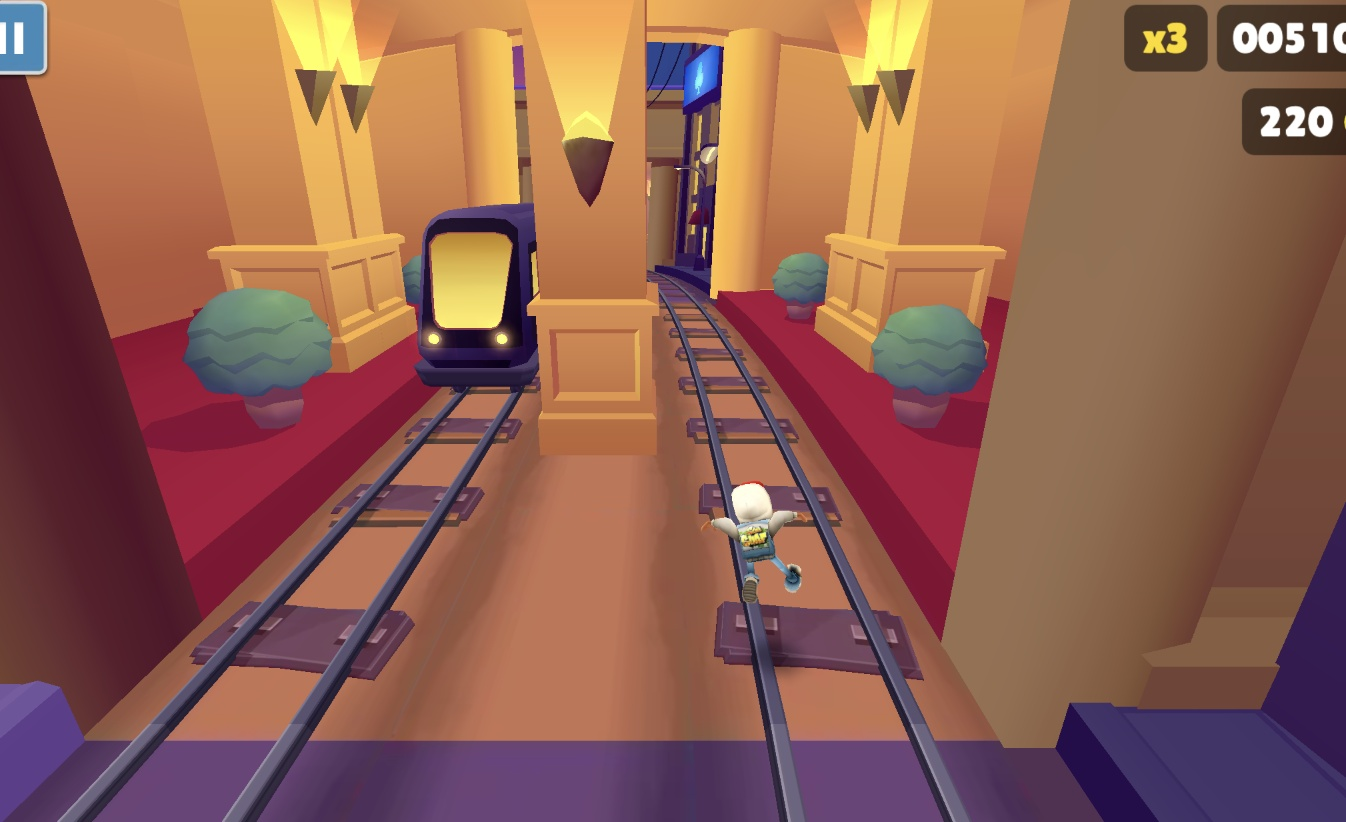pillar: (526, 0, 664, 460)
train: (414, 204, 538, 388)
